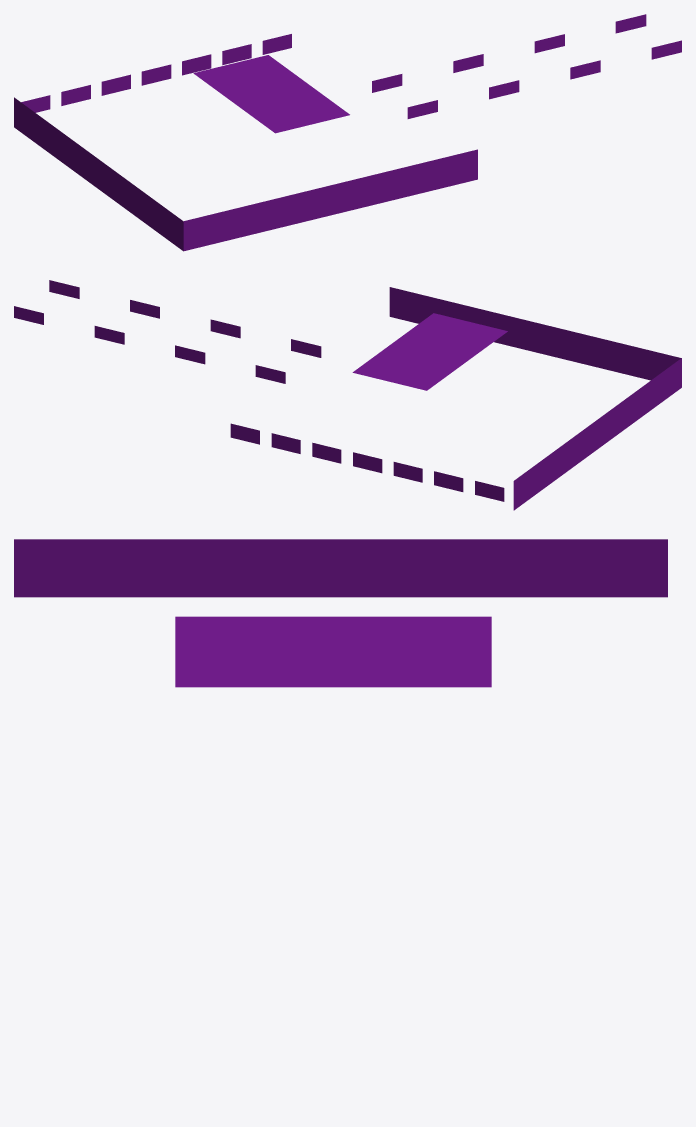
Rendered from crystal.gltf.
3 renders of one model, top to bottom at view 1: azimuth 30°, elevation 25°; view 2: azimuth 150°, elevation 25°; view 3: azimuth 270°, elevation 25°, orthographic. The views are drawn at different scales.
Visible parts, largest first — view 1: Plano (×17); view 2: Plano (×18); view 3: Plano (×2).
Part boxes in pixels (x1=…): Plano (×17): x1=14, y1=14, x2=681, y2=251; Plano (×18): x1=14, y1=280, x2=681, y2=510; Plano (×2): x1=14, y1=539, x2=667, y2=687.
Size of the model in its own units: 27.9 by 2.58 by 14.77.
